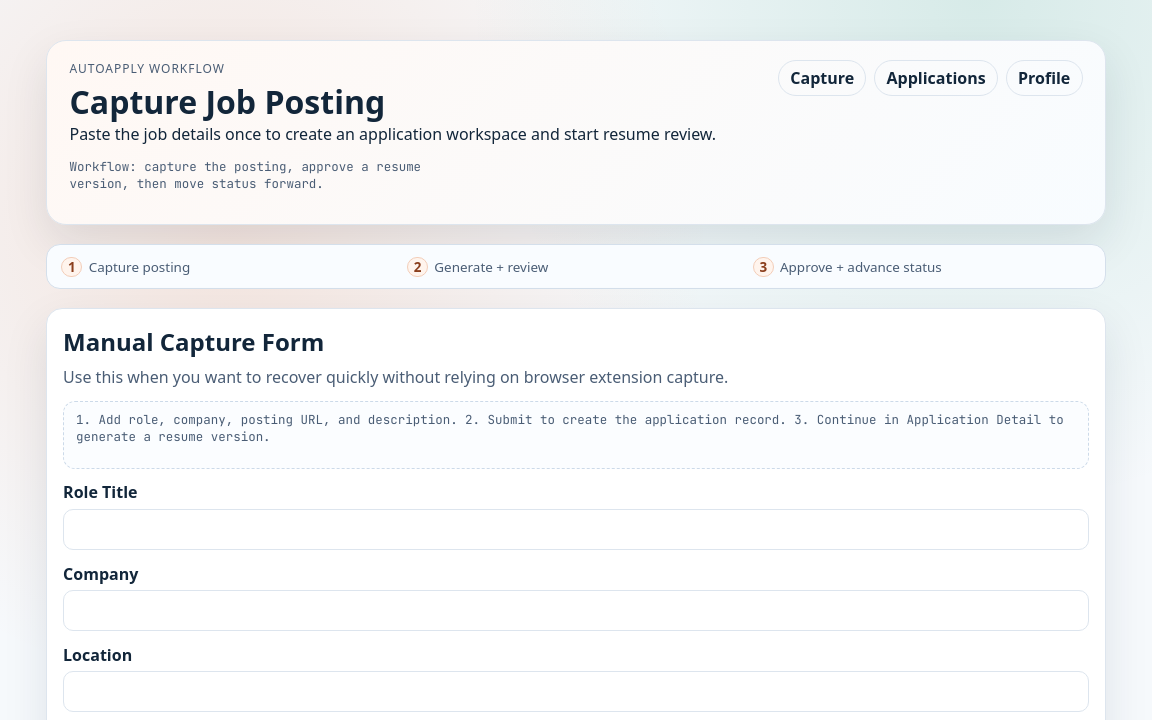
Test: CapturePage › shows API error message on capture failure
Type "Backend Engineer" into the field labelled "Role Title" at [576, 529], box [63,509,1089,550]
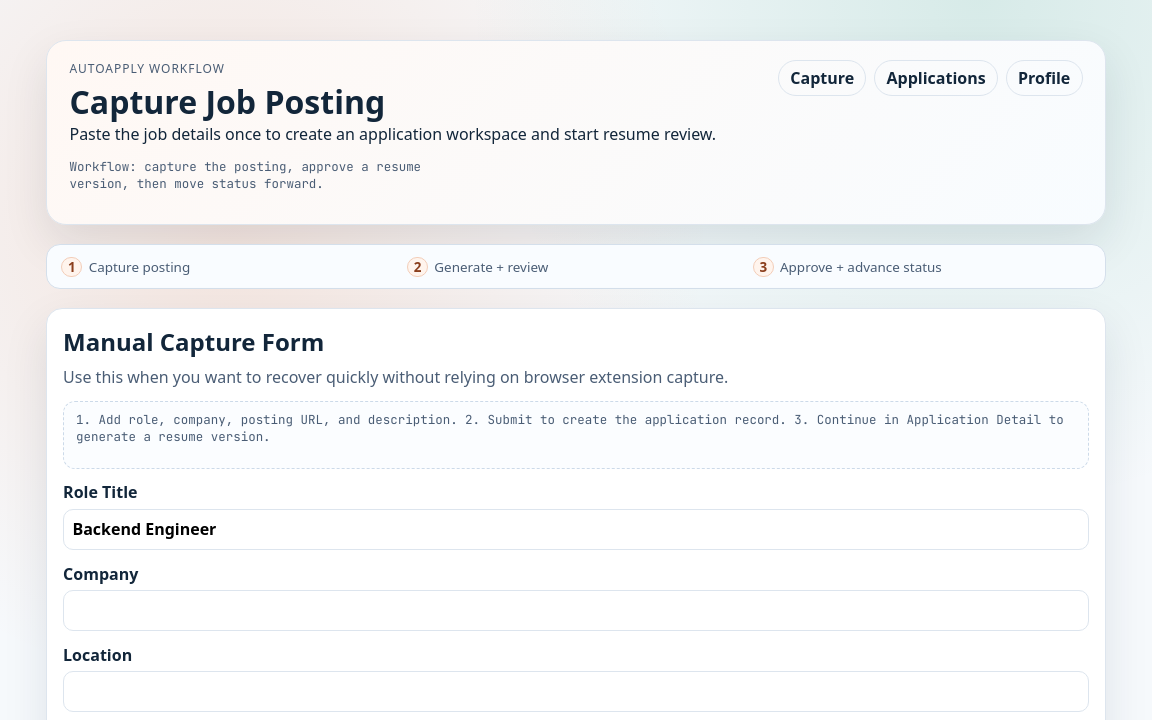
Type "Acme" into the field labelled "Company" at [576, 610], box [63,590,1089,631]
(page scrolled)
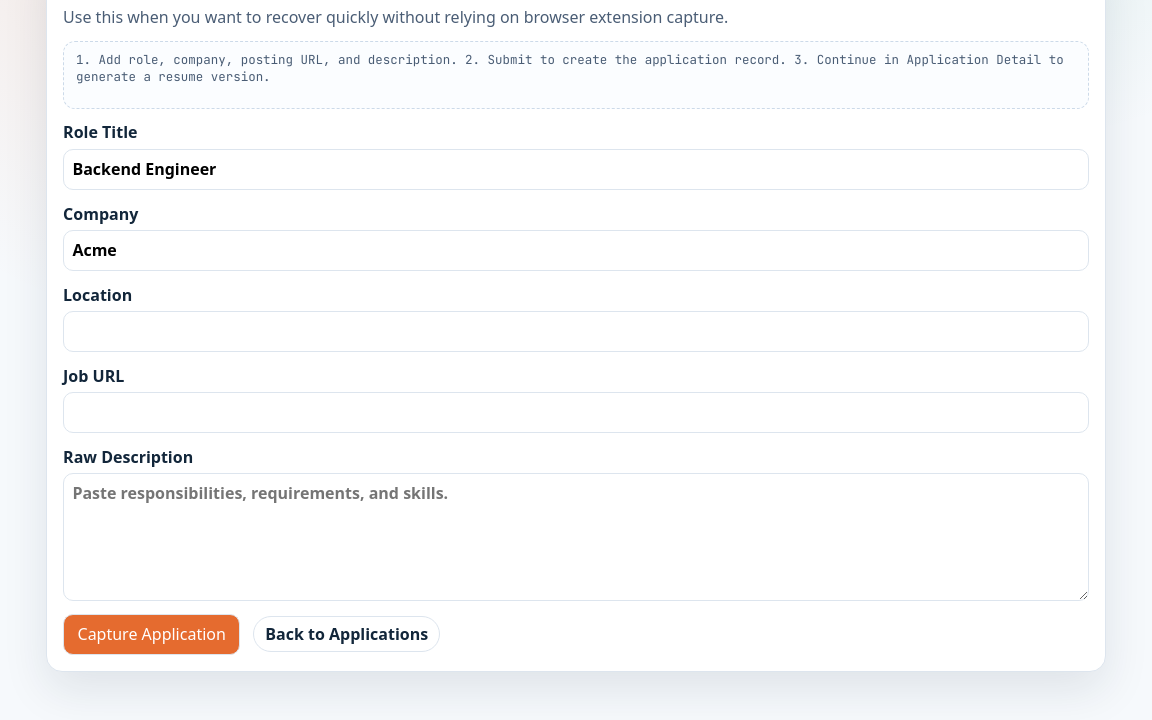
Type "https://example.com/jobs/1" into the field labelled "Job URL" at [576, 412], box [63,392,1089,433]
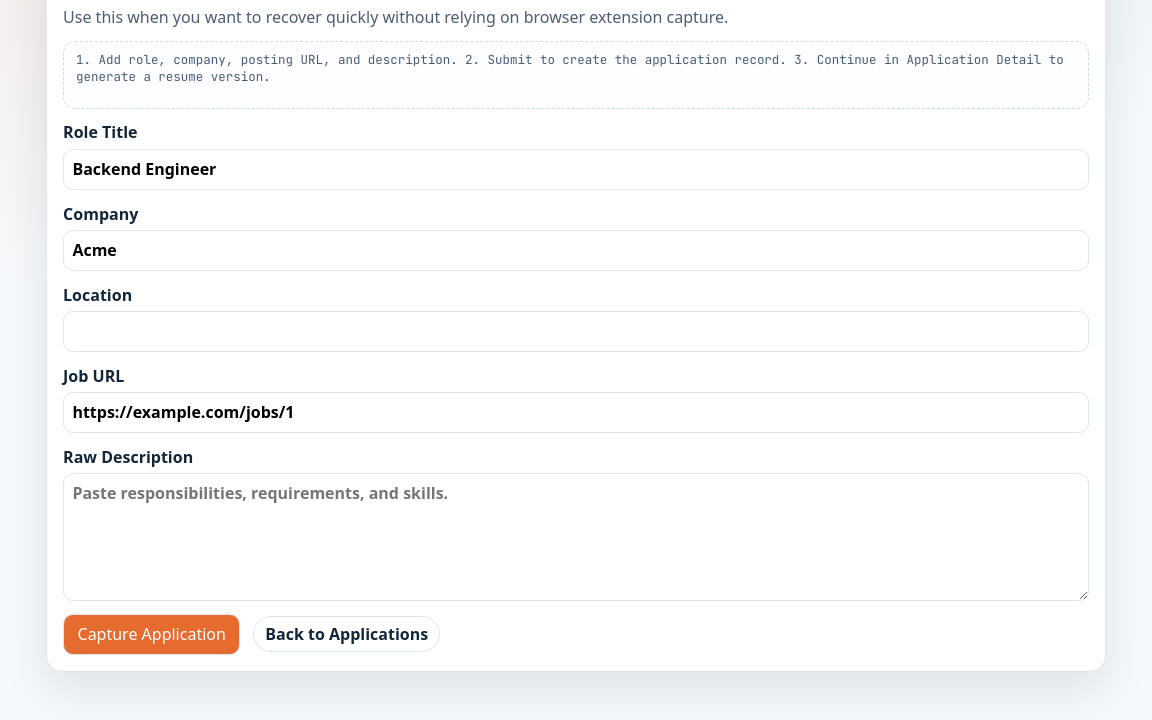
Type "Build APIs." into the text box labelled "Raw Description" at [576, 537], box [63,473,1089,601]
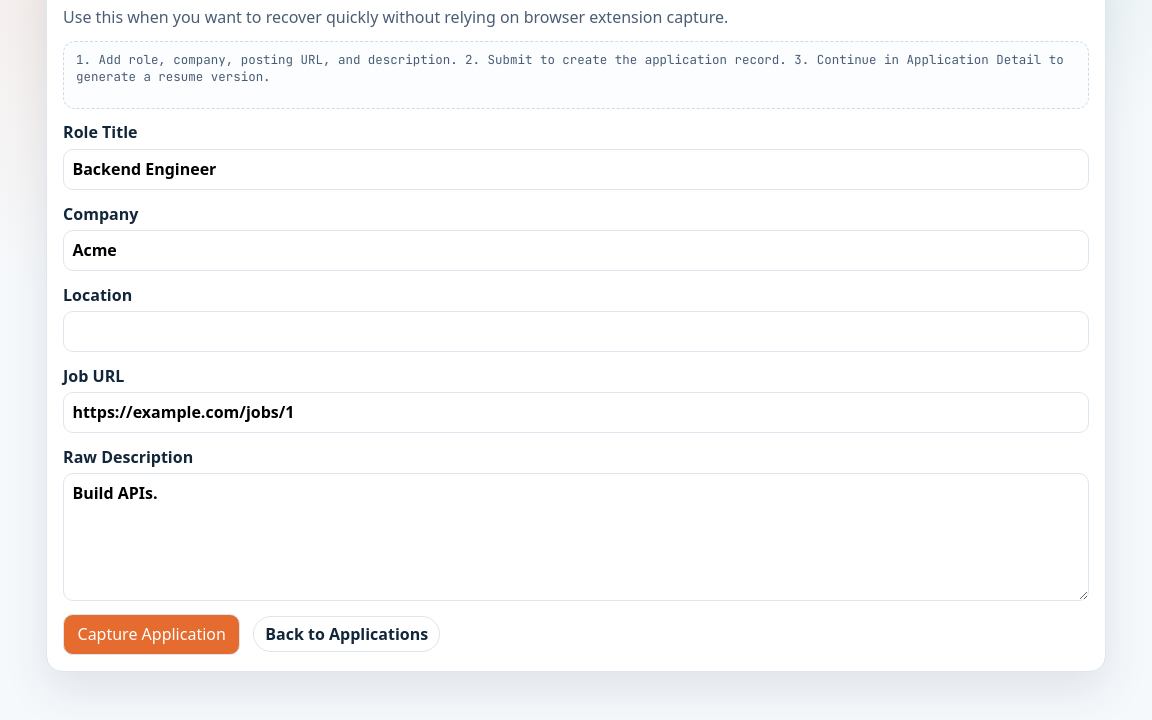
Click the button "Capture Application" at [152, 634], box [63,614,240,654]
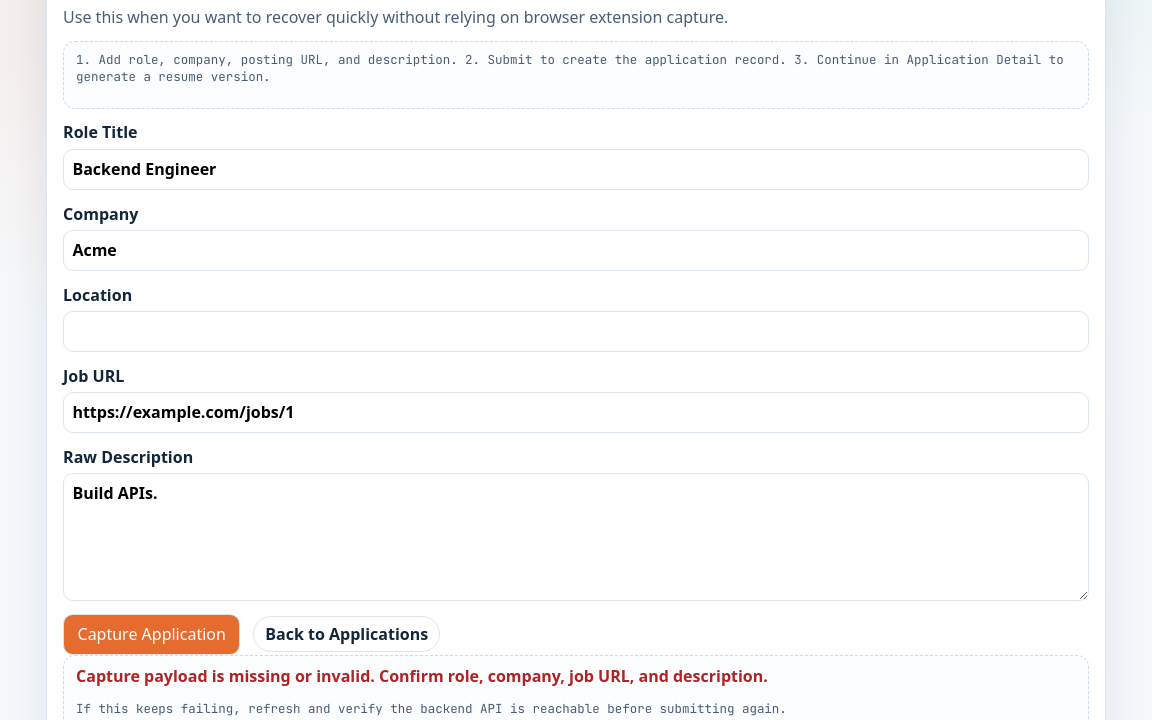
Expected: the text "missing or invalid" is shown, [76,665,768,687]
